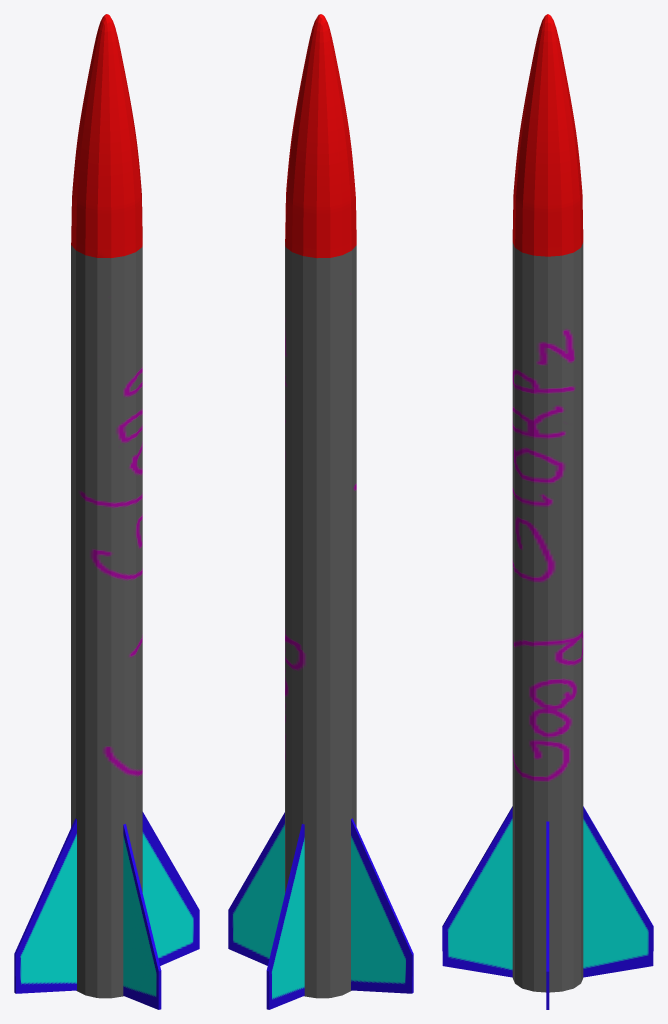
The model's file is Missile.glb.
3 views of the same model, side by side, from view 1: azimuth 30°, elevation 25°; view 2: azimuth 150°, elevation 25°; view 3: azimuth 270°, elevation 25° (orthographic).
Parts seen in each view (by area): view 1: Booster, Fins, Nose; view 2: Booster, Fins, Nose; view 3: Booster, Fins, Nose.
Boxes of the visible parts, left/top/right/bottom form: Booster: left=71, top=245, right=142, bottom=998; Fins: left=14, top=812, right=199, bottom=1009; Nose: left=71, top=14, right=142, bottom=258; Booster: left=285, top=242, right=356, bottom=998; Fins: left=228, top=812, right=413, bottom=1009; Nose: left=285, top=14, right=356, bottom=258; Booster: left=512, top=242, right=583, bottom=992; Fins: left=442, top=806, right=653, bottom=1009; Nose: left=512, top=14, right=583, bottom=256.
Size of the model in its own units: 0.4278 by 2.15 by 0.4278.
Materials: 1 (1 with a texture image).
